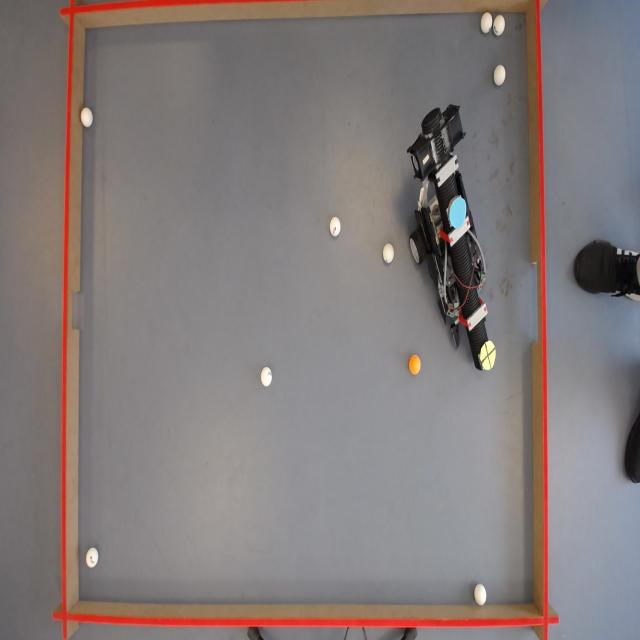orange: (410, 354, 424, 374)
robot: (407, 108, 498, 380)
robot-front: (481, 342, 497, 372)
robot-rear: (449, 197, 468, 229)
white: (475, 584, 489, 608), (493, 65, 507, 86), (80, 106, 93, 128), (494, 13, 506, 35), (88, 548, 100, 570), (328, 216, 341, 236), (262, 365, 274, 386), (482, 11, 494, 32), (383, 244, 395, 263)
